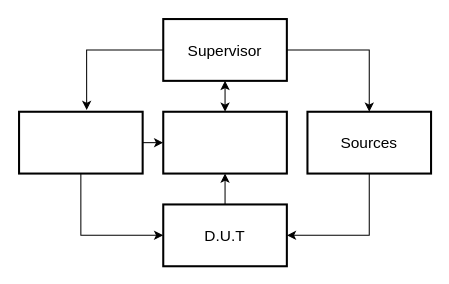
Some shapes in this 449 by 284 pixel diagram are drawn without their labels. The centre of each missing label's shape, as x and y in pixels:
Instruments: the point at 224,142
SPIN: the point at 80,142
